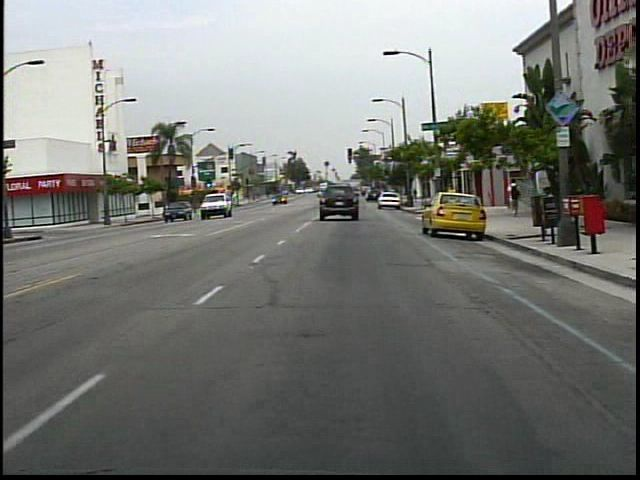person: (501, 174, 525, 222)
